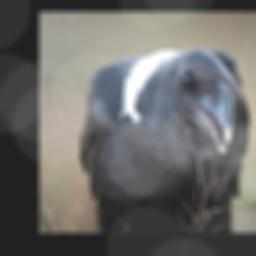Crow: (82, 46, 251, 227)
